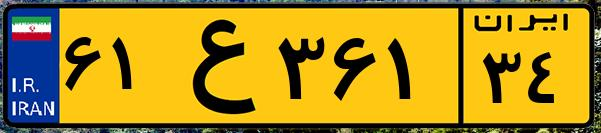1: (385, 28, 445, 110), (110, 28, 158, 98)
3: (270, 28, 330, 110), (475, 38, 525, 113)
4: (525, 38, 570, 115)
6: (330, 28, 385, 110), (57, 26, 110, 100)
ع: (158, 12, 270, 120)
